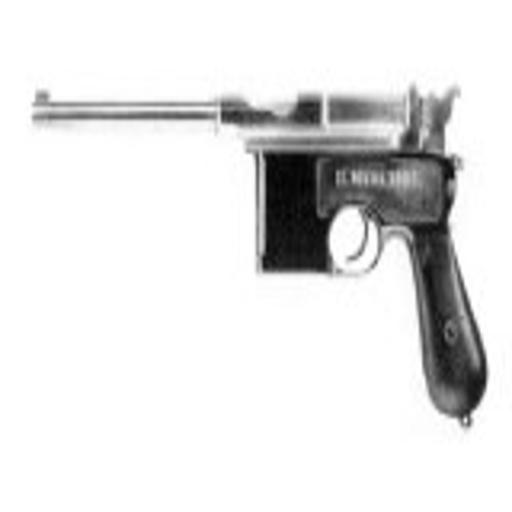Handgun: (24, 67, 488, 447)
